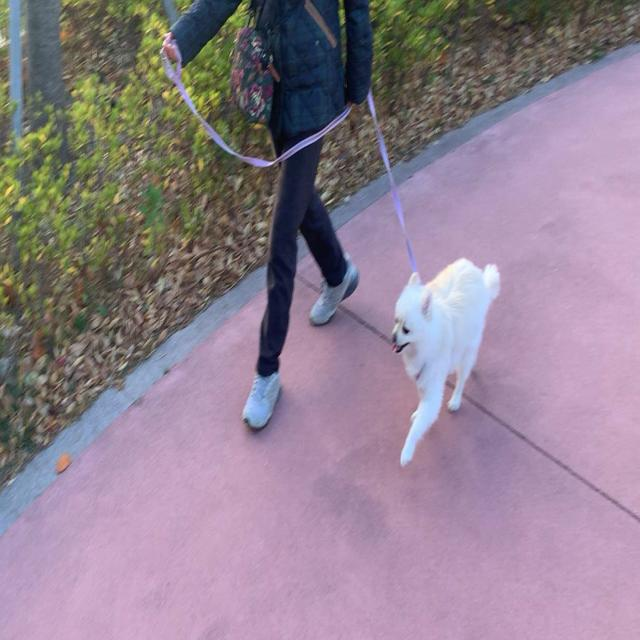Leashed_Dog: (294, 49, 501, 468)
